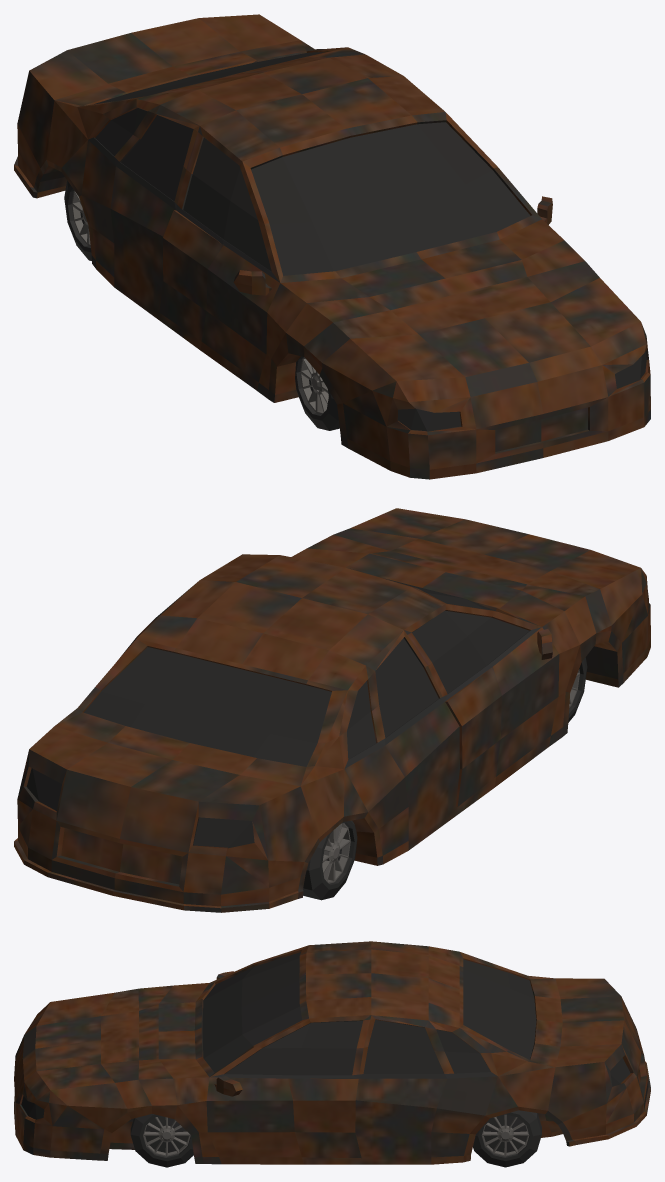
File: wreck_sedan_burnt.glb
The picture shows the model from 3 angles, top to bottom: view 1: azimuth 30°, elevation 25°; view 2: azimuth 150°, elevation 25°; view 3: azimuth 270°, elevation 25°; orthographic projection. The views are drawn at different scales.
Parts seen in each view (by area): view 1: NormalCar1_Cube.012, NormalCar1_FrontRightWheel_Cube.008, NormalCar1_BackWheels_Cube.011; view 2: NormalCar1_Cube.012, NormalCar1_BackWheels_Cube.011, NormalCar1_FrontRightWheel_Cube.008; view 3: NormalCar1_Cube.012, NormalCar1_BackWheels_Cube.011, NormalCar1_FrontLeftWheel_Cube.007.
Part boxes in pixels (box(x1,y1,x2,y2)): NormalCar1_Cube.012: box(14, 14, 650, 479); NormalCar1_FrontRightWheel_Cube.008: box(295, 356, 339, 430); NormalCar1_BackWheels_Cube.011: box(64, 180, 91, 260); NormalCar1_Cube.012: box(14, 508, 650, 912); NormalCar1_BackWheels_Cube.011: box(303, 820, 357, 900); NormalCar1_FrontRightWheel_Cube.008: box(568, 657, 587, 722); NormalCar1_Cube.012: box(14, 941, 650, 1164); NormalCar1_BackWheels_Cube.011: box(473, 1110, 541, 1167); NormalCar1_FrontLeftWheel_Cube.007: box(130, 1114, 193, 1167).
Bounding box in the file's own units: 1.81 × 1.1 × 4.22.
4 materials, 1 textured.
